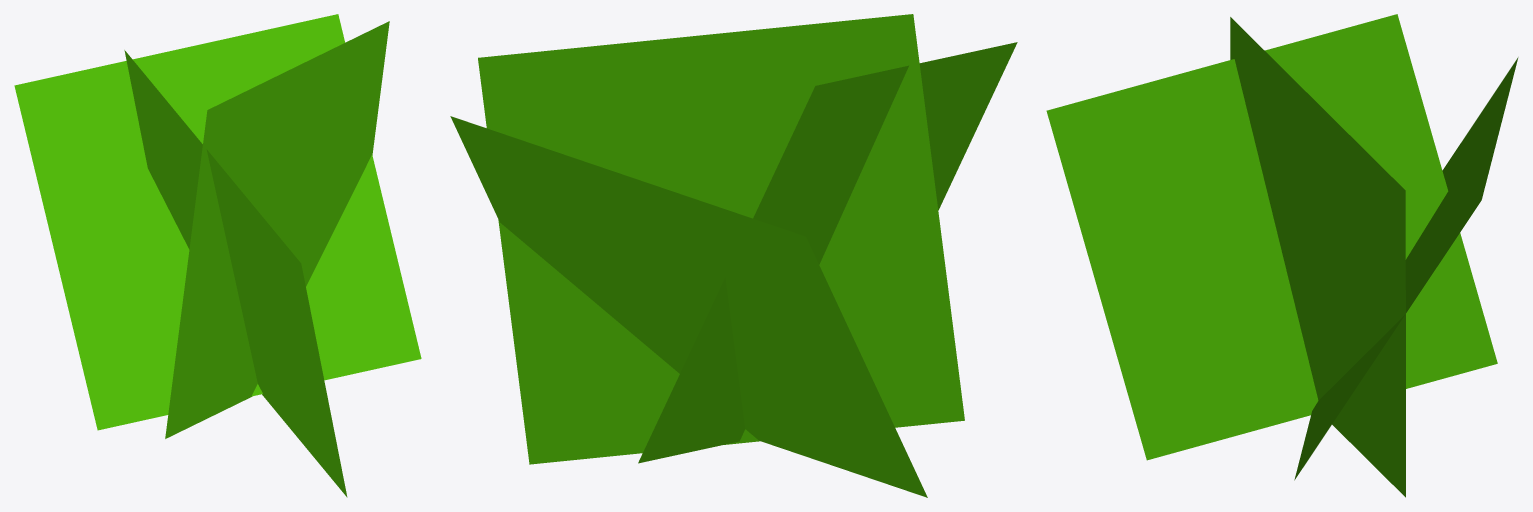
Rendered from grass.glb.
3 views of the same model, side by side, from view 1: azimuth 30°, elevation 25°; view 2: azimuth 150°, elevation 25°; view 3: azimuth 270°, elevation 25° (orthographic). The views are drawn at different scales.
Parts seen in each view (by area): view 1: lod0; view 2: lod0; view 3: lod0.
Part boxes in pixels (x1,y1,x2,y2): lod0: [14, 14, 421, 497]; lod0: [450, 14, 1017, 497]; lod0: [1046, 14, 1518, 497].
Size of what is drawn, in the model's own units: 0.6548 by 0.732 by 0.7918.
